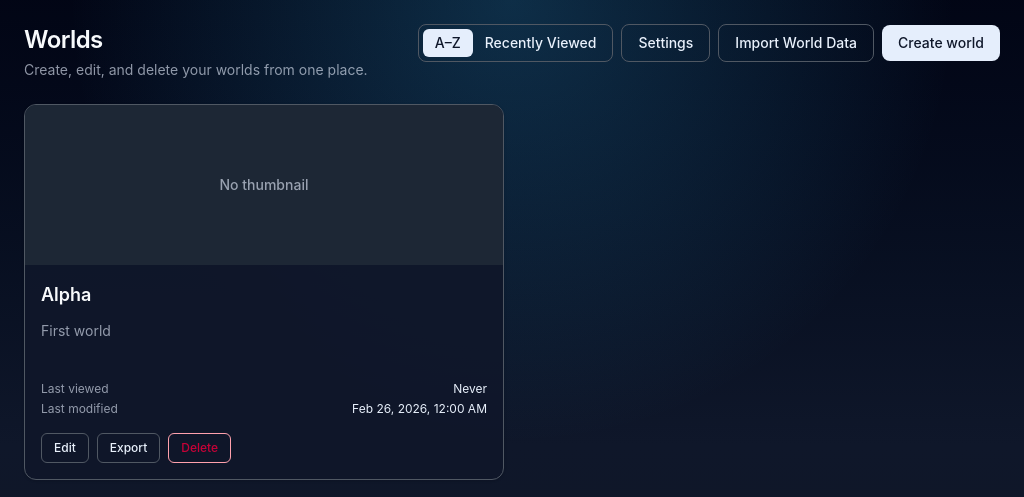
Test: WorldsHomePage renderer behaviors › imports a world and refreshes list after success
Expected: the button with aria-label "Open Alpha" is shown, [24,104,504,480]
Click the button "Import World Data". click: (796, 43)
box: [718,24,874,62]
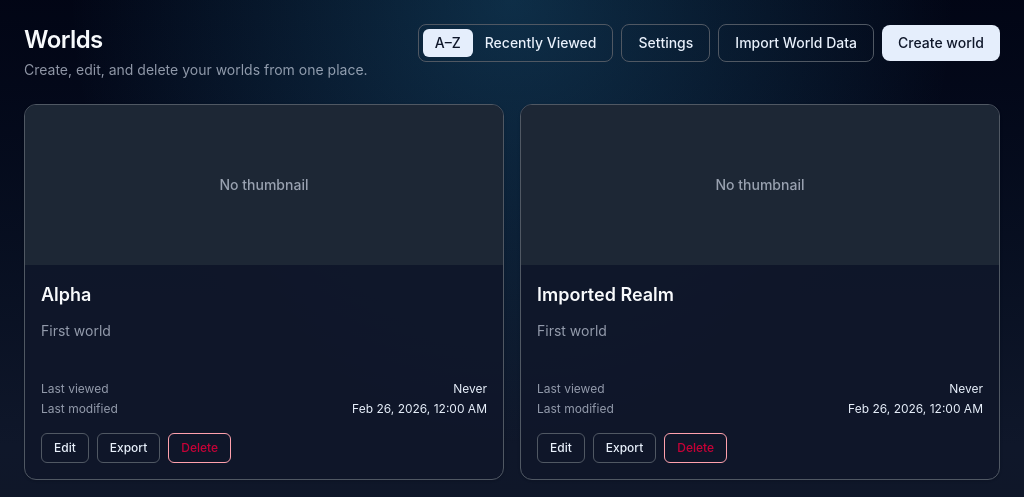
Expected: the button with aria-label "Open Imported Realm" is shown, [520,104,1000,480]
